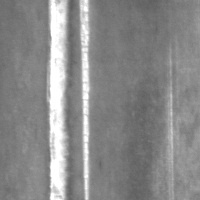scratches: (45, 1, 71, 200), (77, 1, 92, 200), (165, 40, 176, 200)
